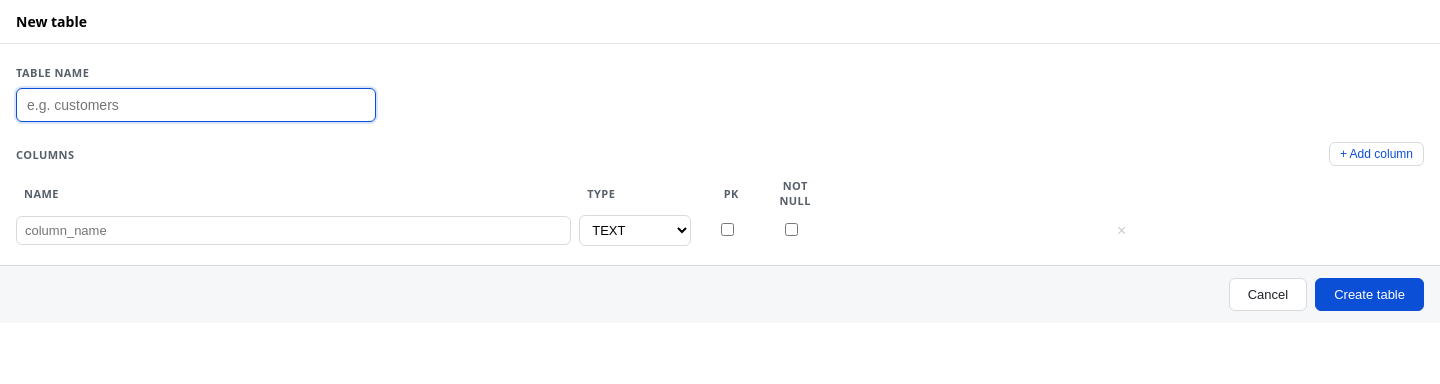
Test: TableForm (create mode) › requires at least one named column
Type "t" into the field labelled "Table name". click: (196, 105)
box: [16,88,376,122]
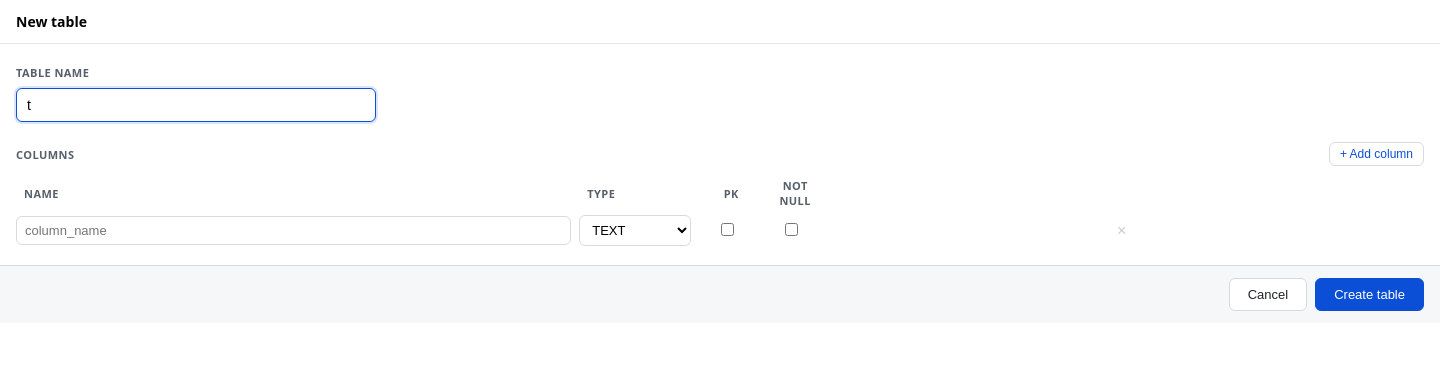
Click the button "Create table". click: (1370, 294)
box: [1315,278,1424,311]
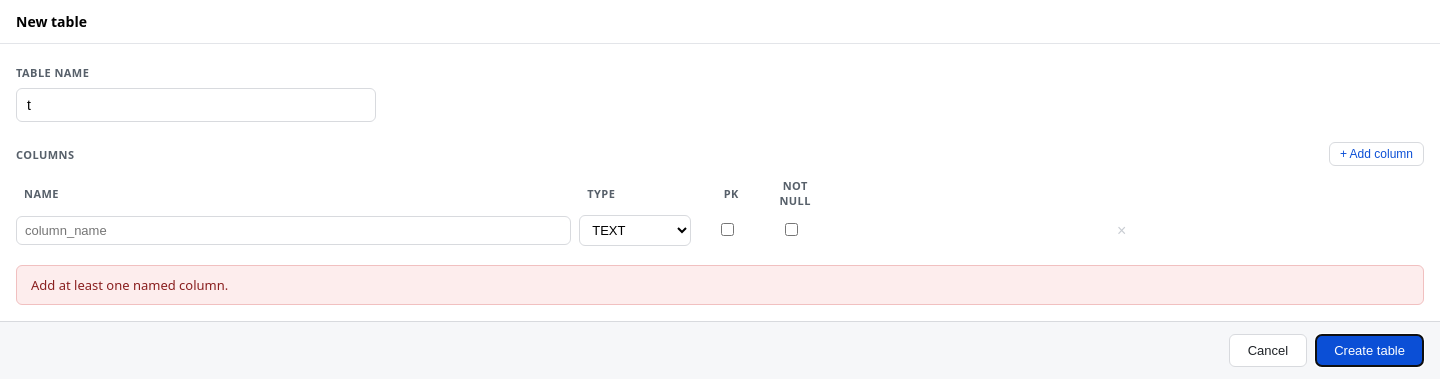
Result: the text "Add at least one named column." is shown at [16,265,1424,305]
